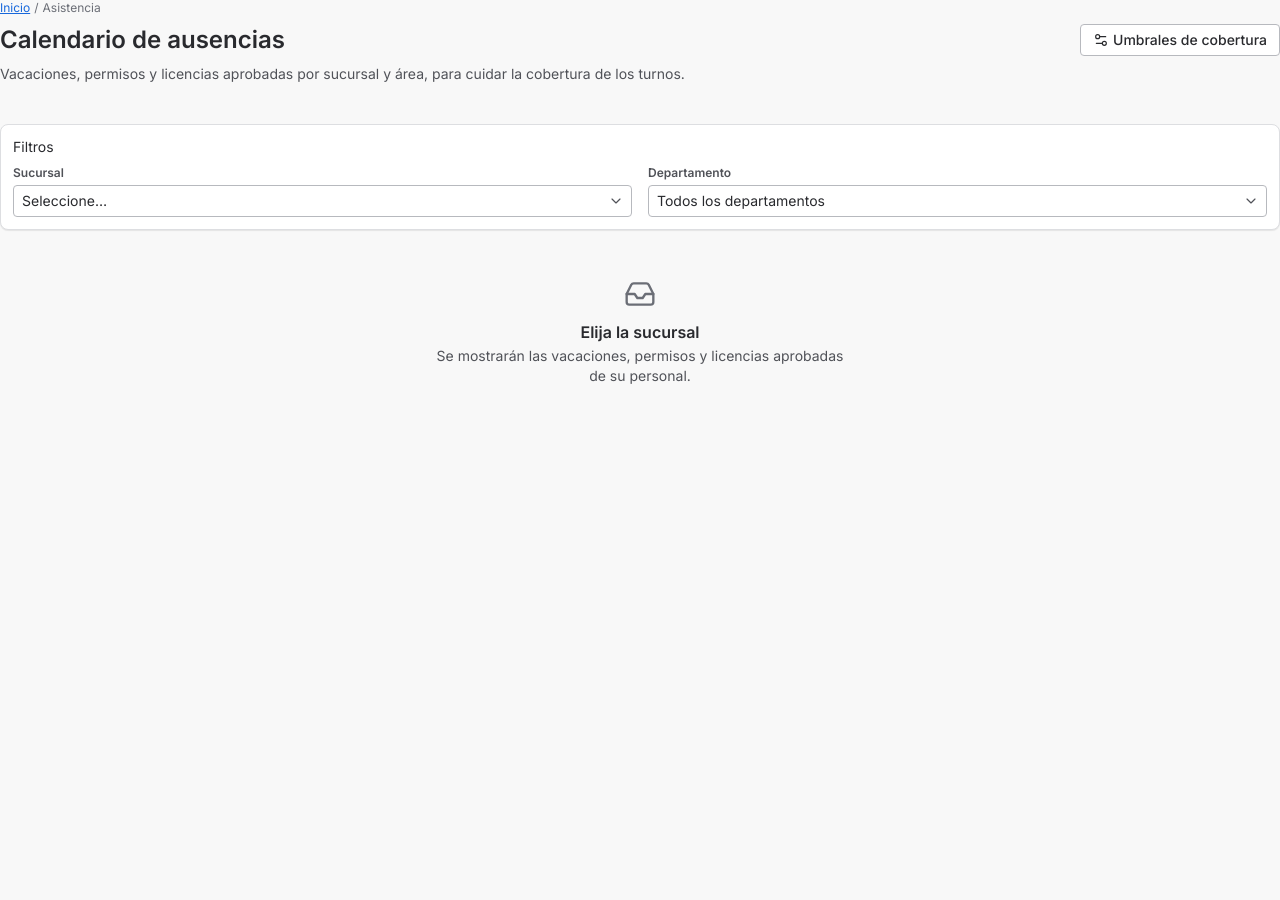
Calendario de ausencias › la vista semanal pide lunes a domingo y la diaria, un día con el detalle de la baja cobertura
The width and height of the screenshot is (1280, 900).
Select "Central" in the dropdown labelled "Sucursal" at (322, 201), box [13,185,632,217]
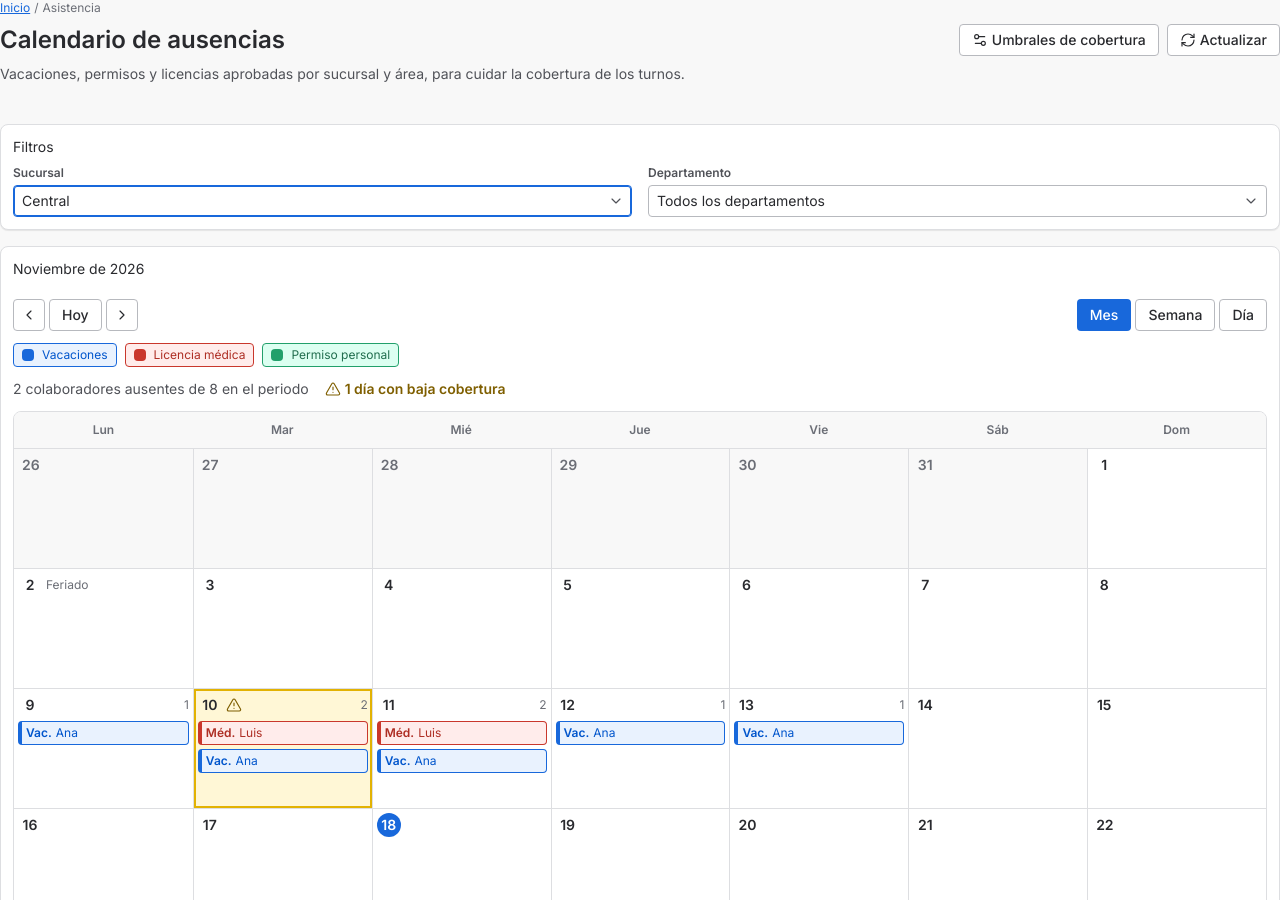
Click the button "Semana" at (1175, 315), box [1135,299,1215,331]
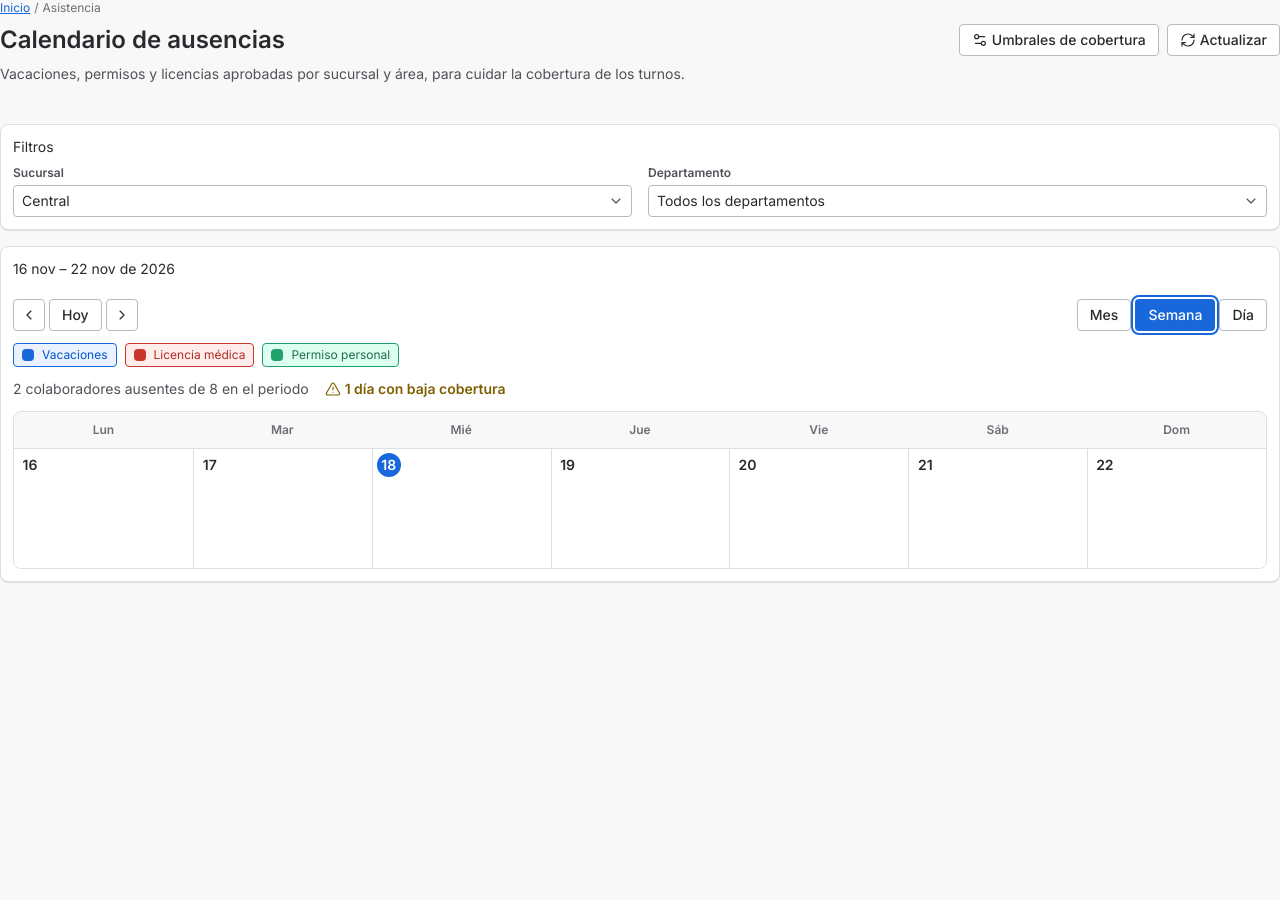
Click the button "Mes" at (1104, 315), box [1077,299,1131,331]
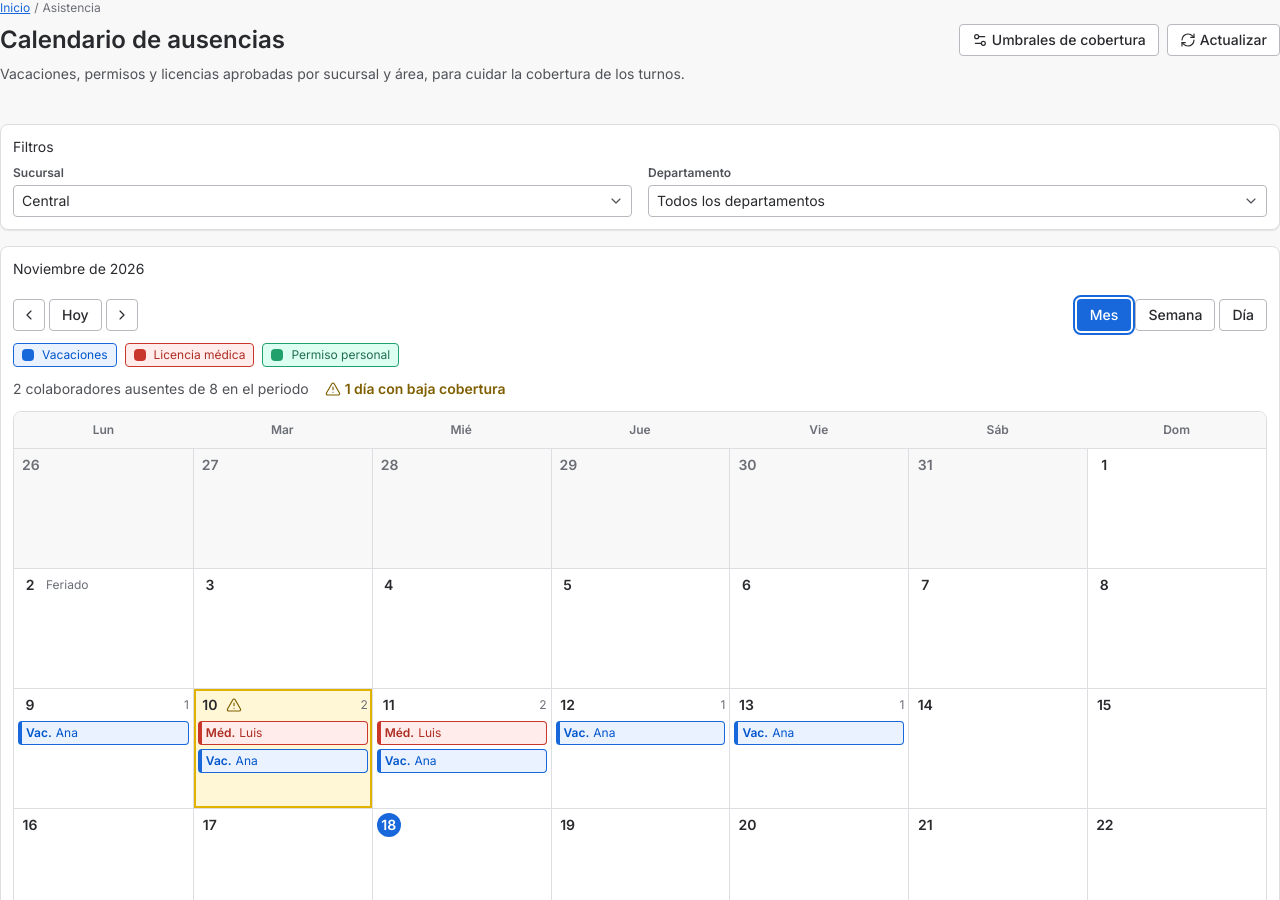
Click the button named "Martes, 10 de noviembre de 2026: 2 ausencias, baja cobertura" at (210, 705), box [198,693,222,717]
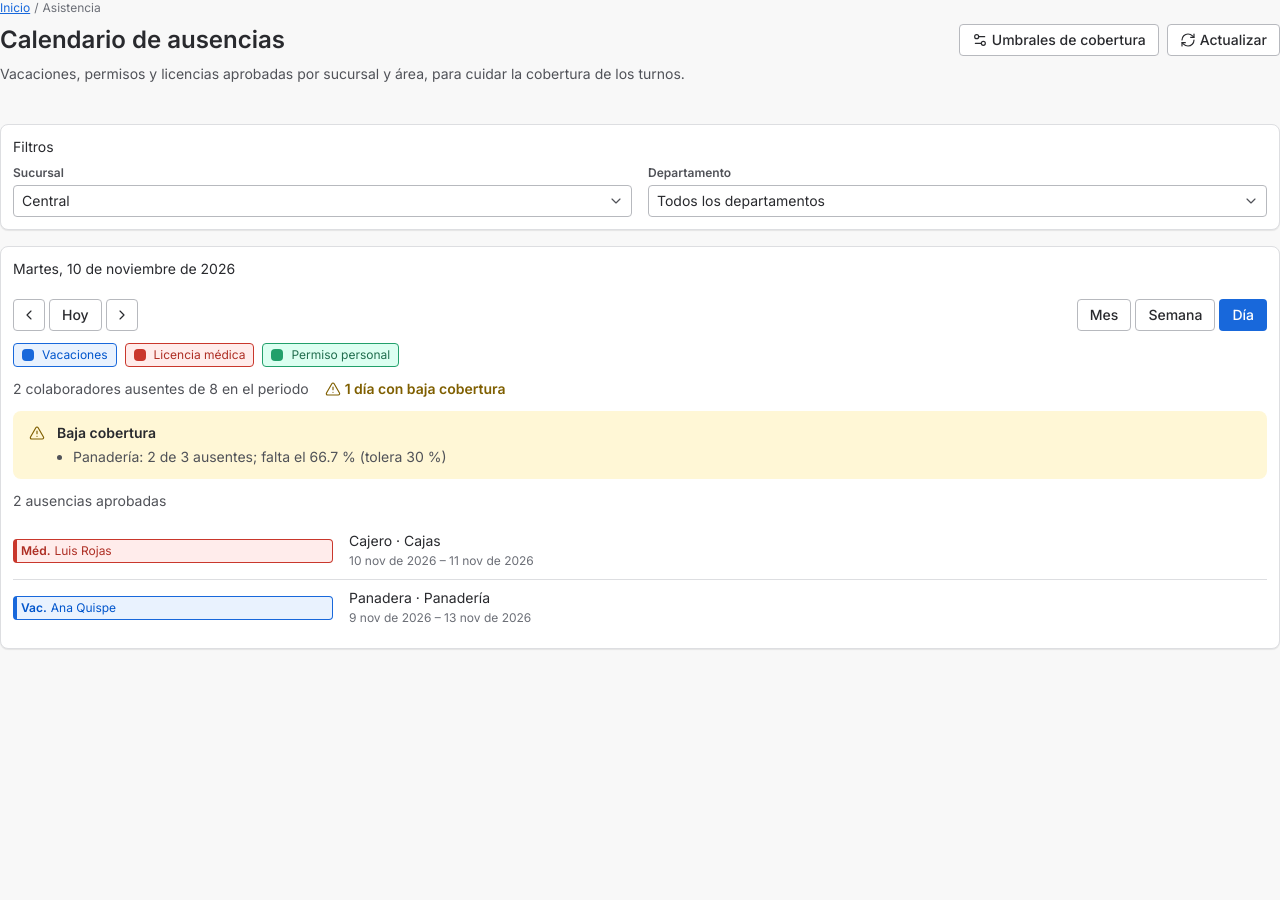
Now the message "Baja cobertura Panadería: 2 de 3 ausentes; falta el 66.7 % (tolera 30 %)" is shown, box [13,411,1267,479]
Now the text "2 ausencias aprobadas" is shown, box [13,492,166,509]
